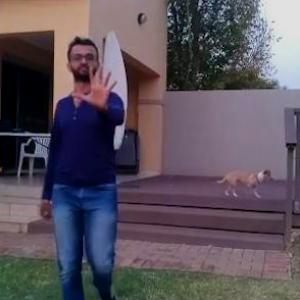follow_hand: (71, 61, 122, 111)
